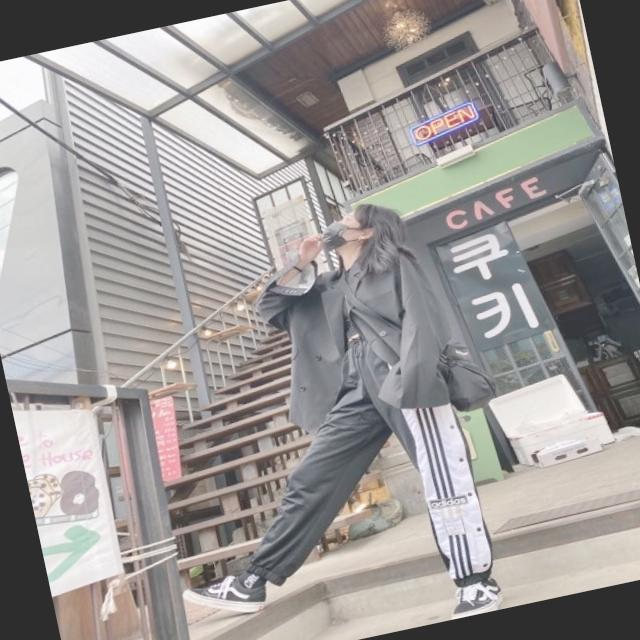blazer: (244, 228, 470, 440)
trainingpants: (206, 357, 506, 636)
